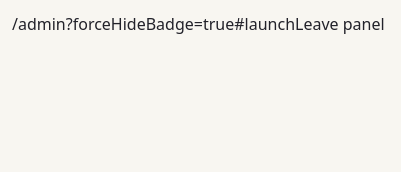
Test: native launch navigation › preserves launch parameters and does not bounce denied users back into admin
The width and height of the screenshot is (401, 172).
Expected: the text "/admin?forceHideBadge=true#launch" is shown, [12, 13, 295, 35]
Click the link "Leave panel": (340, 24) [295, 13, 385, 35]
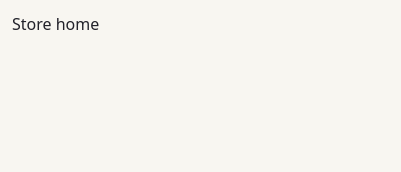
Expected: the text "Store home" is shown, [12, 13, 99, 35]
Expected: the link "Leave panel" is gone
